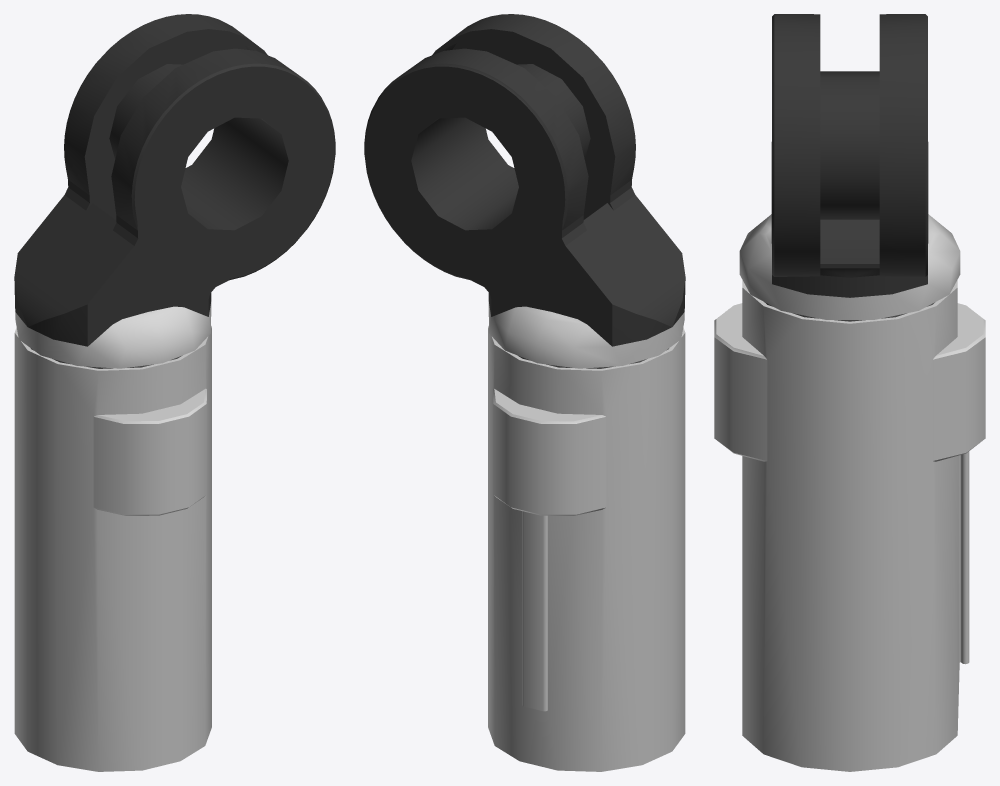
File: wam4.dae
3 views of the same model, side by side, from view 1: azimuth 30°, elevation 25°; view 2: azimuth 150°, elevation 25°; view 3: azimuth 270°, elevation 25° (orthographic). The views are drawn at different scales.
Parts seen in each view (by area): view 1: wamForeArmLink4; view 2: wamForeArmLink4; view 3: wamForeArmLink4.
Part boxes in pixels (<box>): wamForeArmLink4: <box>14,14,335,771</box>; wamForeArmLink4: <box>364,14,685,771</box>; wamForeArmLink4: <box>714,14,985,771</box>.
Size of the model in its own units: 0.1425 by 0.3318 by 0.1094.
1 material, 1 textured.
